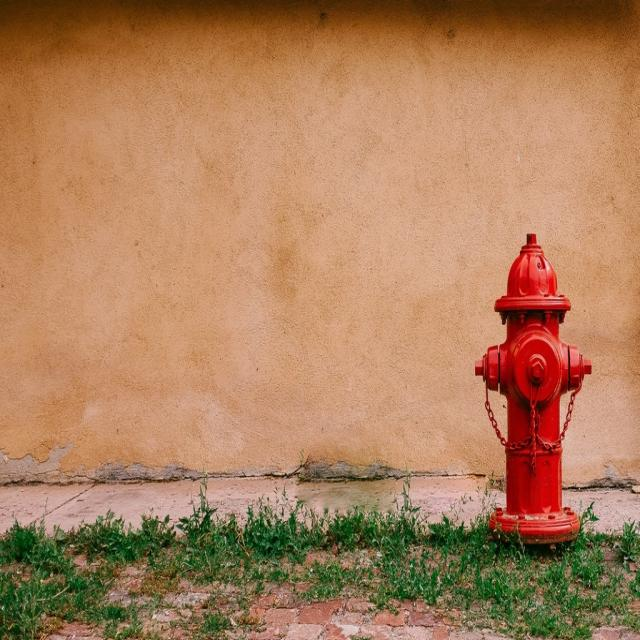fire_hydrant: (475, 234, 593, 543)
